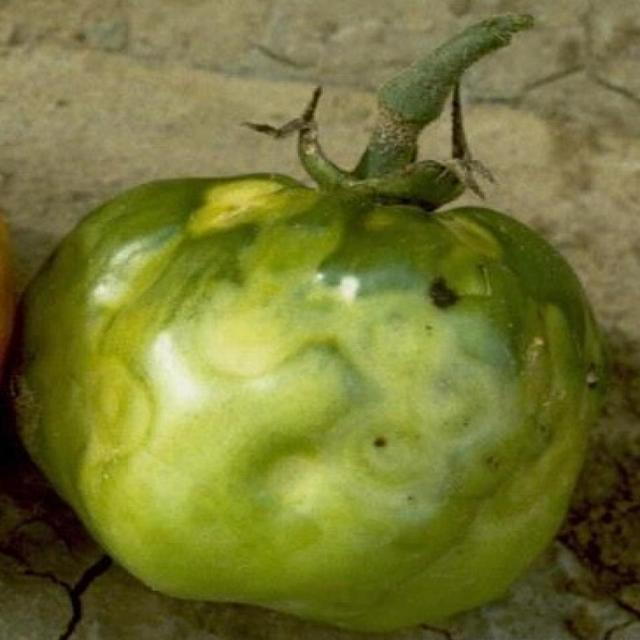Spotted wilt Virus Fruit: (9, 114, 398, 423)
